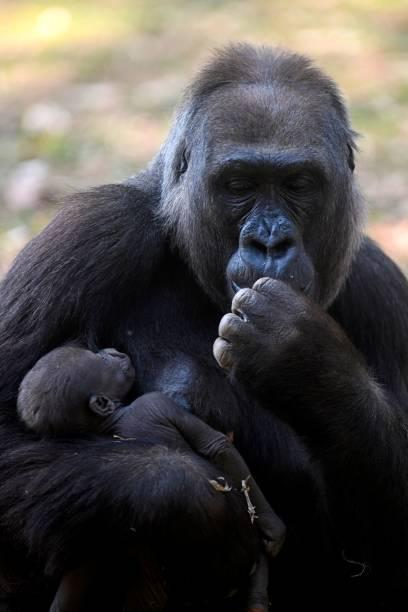gorille_Autres: (5, 54, 408, 612)
